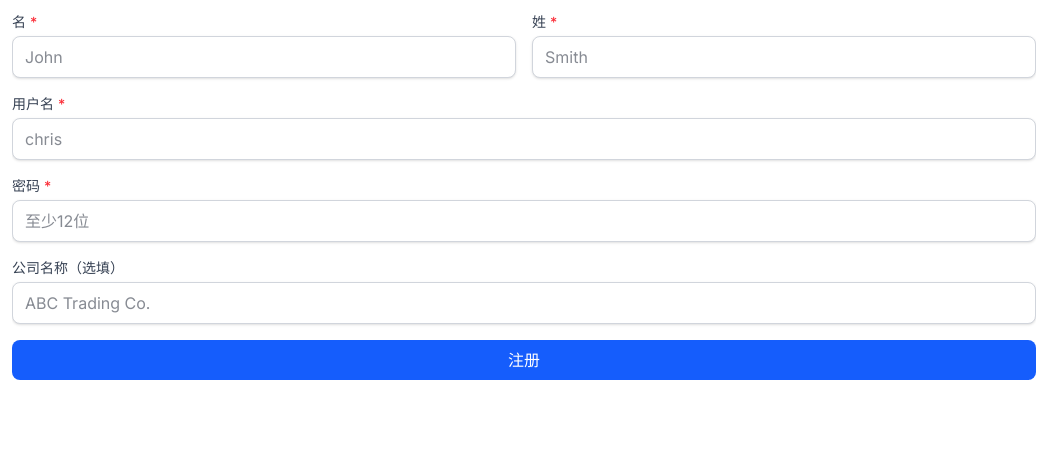
Test: RegistrationForm (FF-005) › 用户名少于3字符显示错误
Type "ab" into the field labelled "用户名*" at (524, 139), box x1=12 y1=118 x2=1036 y2=160
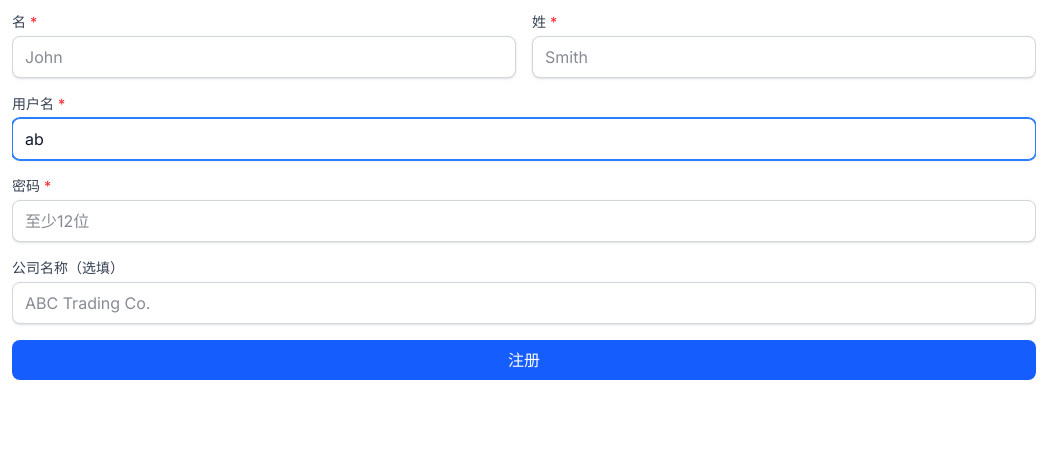
Click the button "注册" at (524, 360), box x1=12 y1=340 x2=1036 y2=380
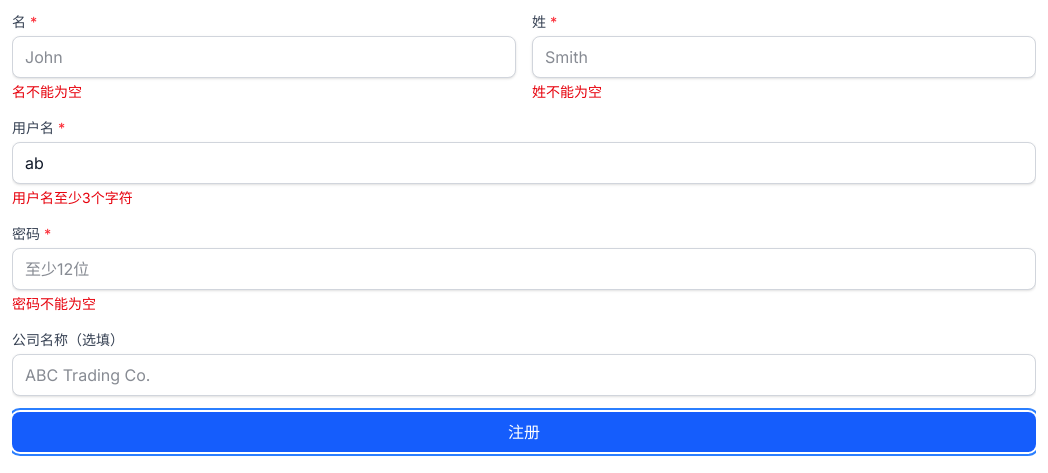
Expected: the text "用户名至少3个字符" is shown, x1=12 y1=189 x2=133 y2=206
